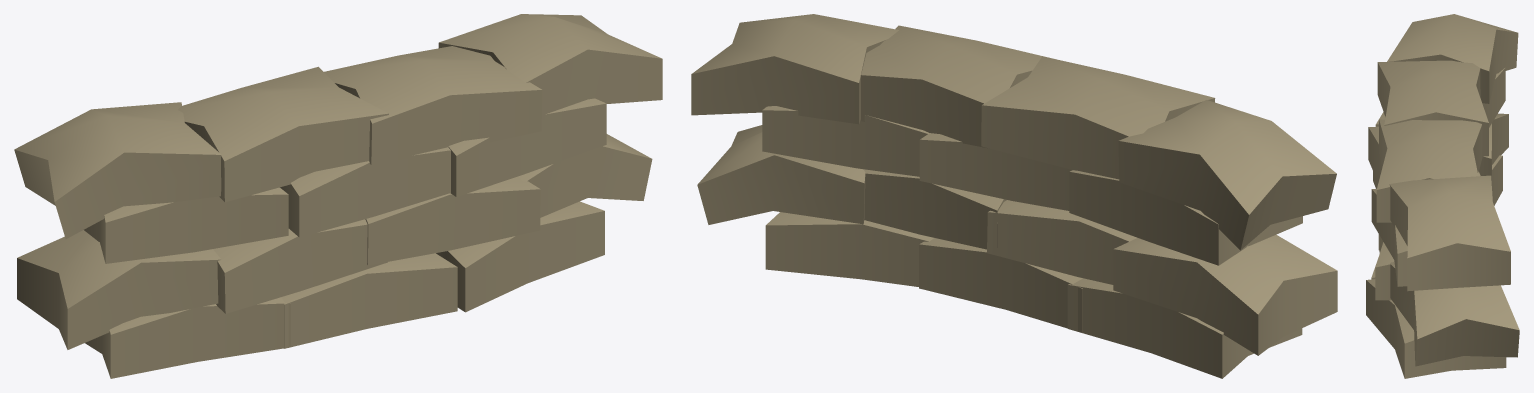
File: SackTrench.gltf
The picture shows the model from 3 angles, left to right: view 1: azimuth 30°, elevation 25°; view 2: azimuth 150°, elevation 25°; view 3: azimuth 270°, elevation 25°; orthographic projection. The views are drawn at different scales.
Parts seen in each view (by area): view 1: SackTrench; view 2: SackTrench; view 3: SackTrench.
Part boxes in pixels (x1,y1,x2,y2): SackTrench: (14, 14, 662, 378); SackTrench: (691, 14, 1337, 378); SackTrench: (1366, 14, 1519, 378).
Size of the model in its own units: 3.35 by 1.28 by 0.9246.
